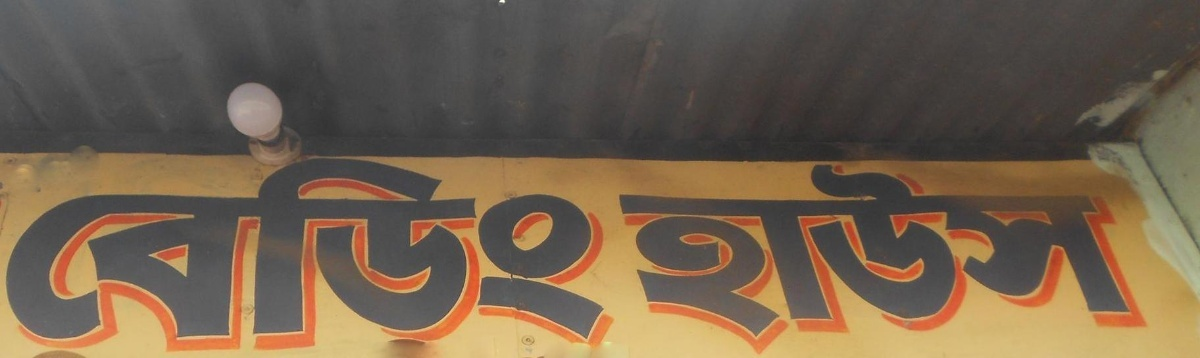text: (17, 147, 32, 356), (33, 147, 48, 356), (49, 147, 64, 356), (65, 147, 80, 356), (81, 147, 96, 356), (97, 147, 112, 356), (113, 147, 128, 356), (129, 147, 144, 356), (145, 147, 160, 356), (161, 147, 176, 356), (177, 147, 192, 356), (193, 147, 208, 356), (209, 147, 224, 356), (225, 147, 240, 356), (241, 147, 256, 356), (257, 147, 272, 356), (273, 147, 288, 356), (289, 147, 304, 356), (305, 147, 320, 356), (321, 147, 336, 356), (337, 147, 352, 356), (353, 147, 368, 356), (369, 147, 384, 356), (385, 147, 400, 356), (401, 147, 416, 356), (417, 147, 432, 356), (433, 147, 448, 356), (449, 147, 464, 356), (465, 147, 480, 356), (481, 147, 496, 356), (497, 147, 512, 356), (513, 147, 528, 356), (529, 147, 544, 356), (545, 147, 560, 356), (561, 147, 576, 356), (577, 147, 592, 356), (593, 147, 608, 356), (625, 160, 640, 357), (641, 160, 656, 357), (657, 160, 672, 357), (673, 160, 688, 357), (689, 160, 704, 357), (705, 160, 720, 357), (721, 160, 736, 357), (737, 160, 752, 357), (753, 160, 768, 357), (769, 160, 784, 357), (785, 160, 800, 357), (801, 160, 816, 357), (817, 160, 832, 357), (833, 160, 848, 357), (849, 160, 864, 357), (865, 160, 880, 357), (881, 160, 896, 357), (897, 160, 912, 357), (913, 160, 928, 357), (929, 160, 944, 357), (945, 160, 960, 357), (961, 160, 976, 357), (977, 160, 992, 357), (993, 160, 1008, 357), (1009, 160, 1024, 357), (1025, 160, 1040, 357), (1041, 160, 1056, 357), (1057, 160, 1072, 357), (1073, 160, 1088, 357), (1089, 160, 1104, 357), (1105, 160, 1120, 357), (1121, 160, 1136, 357), (1137, 160, 1152, 357), (1153, 160, 1166, 357), (4, 147, 16, 356), (609, 147, 617, 356), (618, 160, 624, 357)
